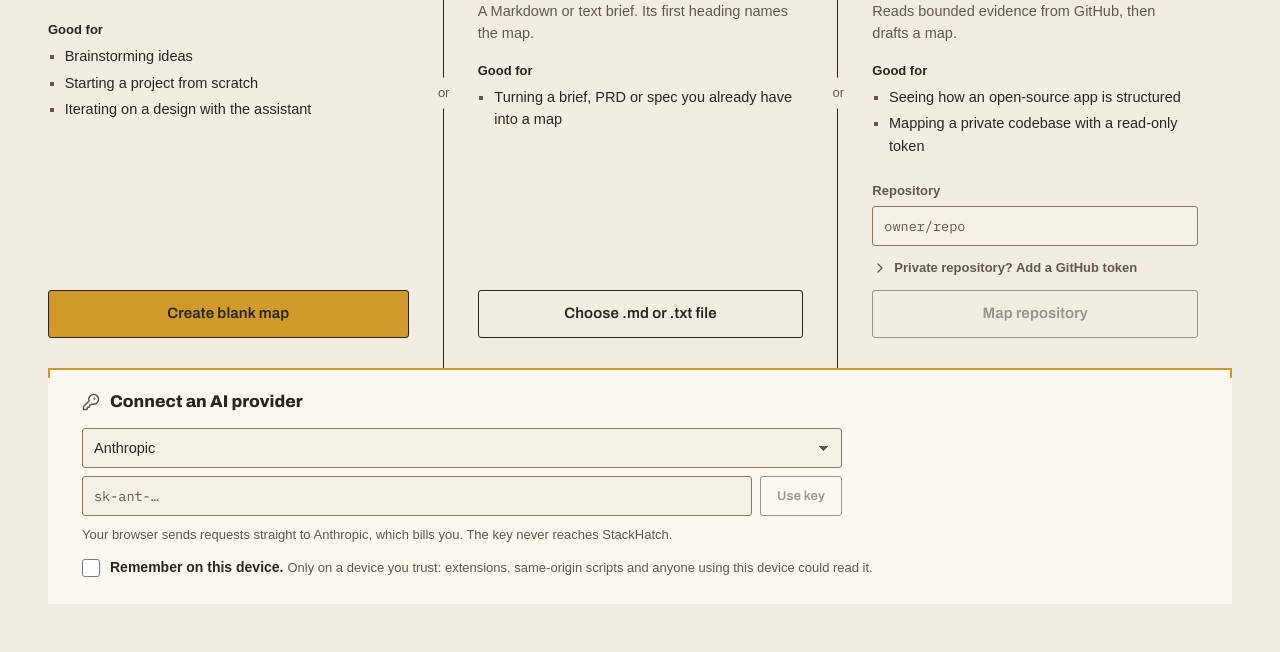
Test case: ProjectStartWorkspace › rejects a malformed key and discloses the remembered-key risk
(page scrolled)
Check: the text "extensions, same-origin scripts and anyone using" is shown, box [287, 560, 873, 575]
In the password field named "Anthropic API key": (417, 496) [82, 476, 752, 516], type "hello"
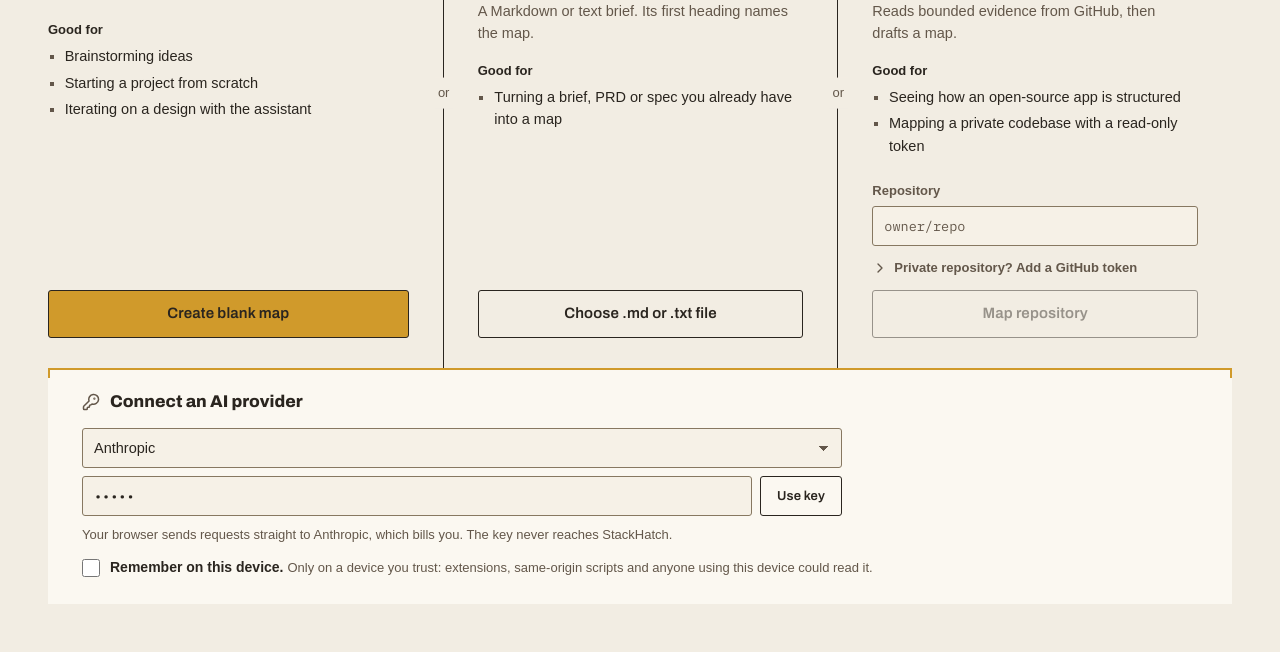
Click the button "Use key": (801, 496) [760, 476, 842, 516]
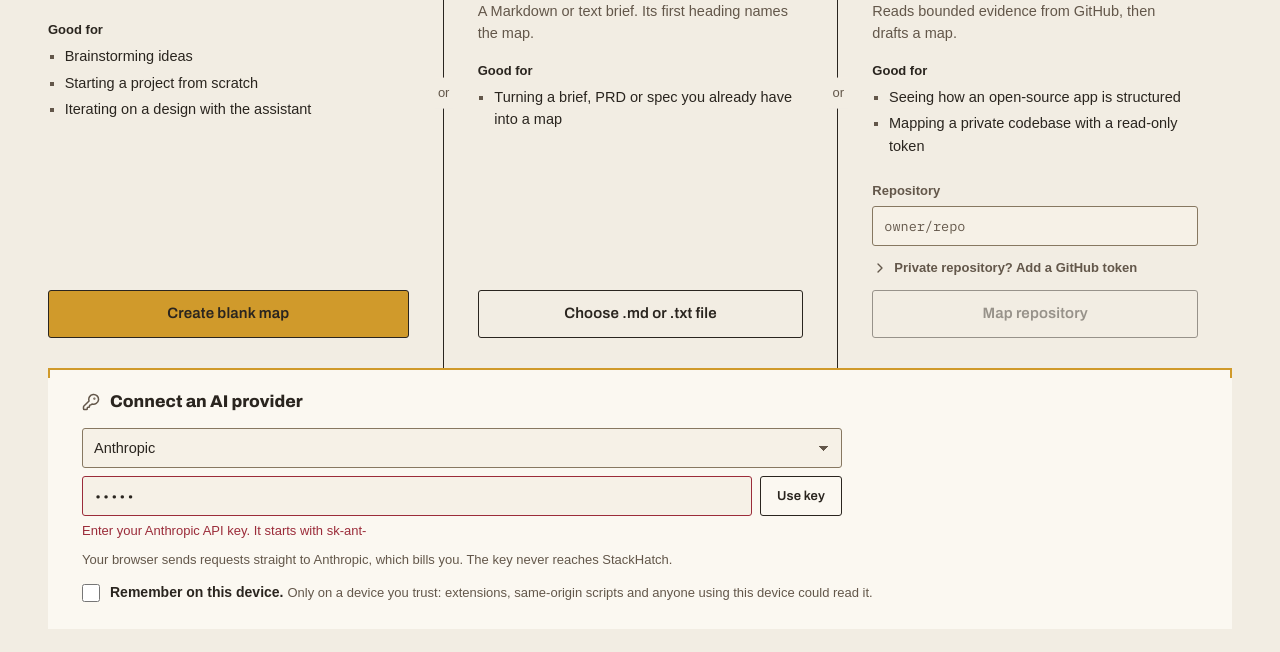
Check: the message shows "It starts with sk-ant-", box [82, 523, 366, 538]
